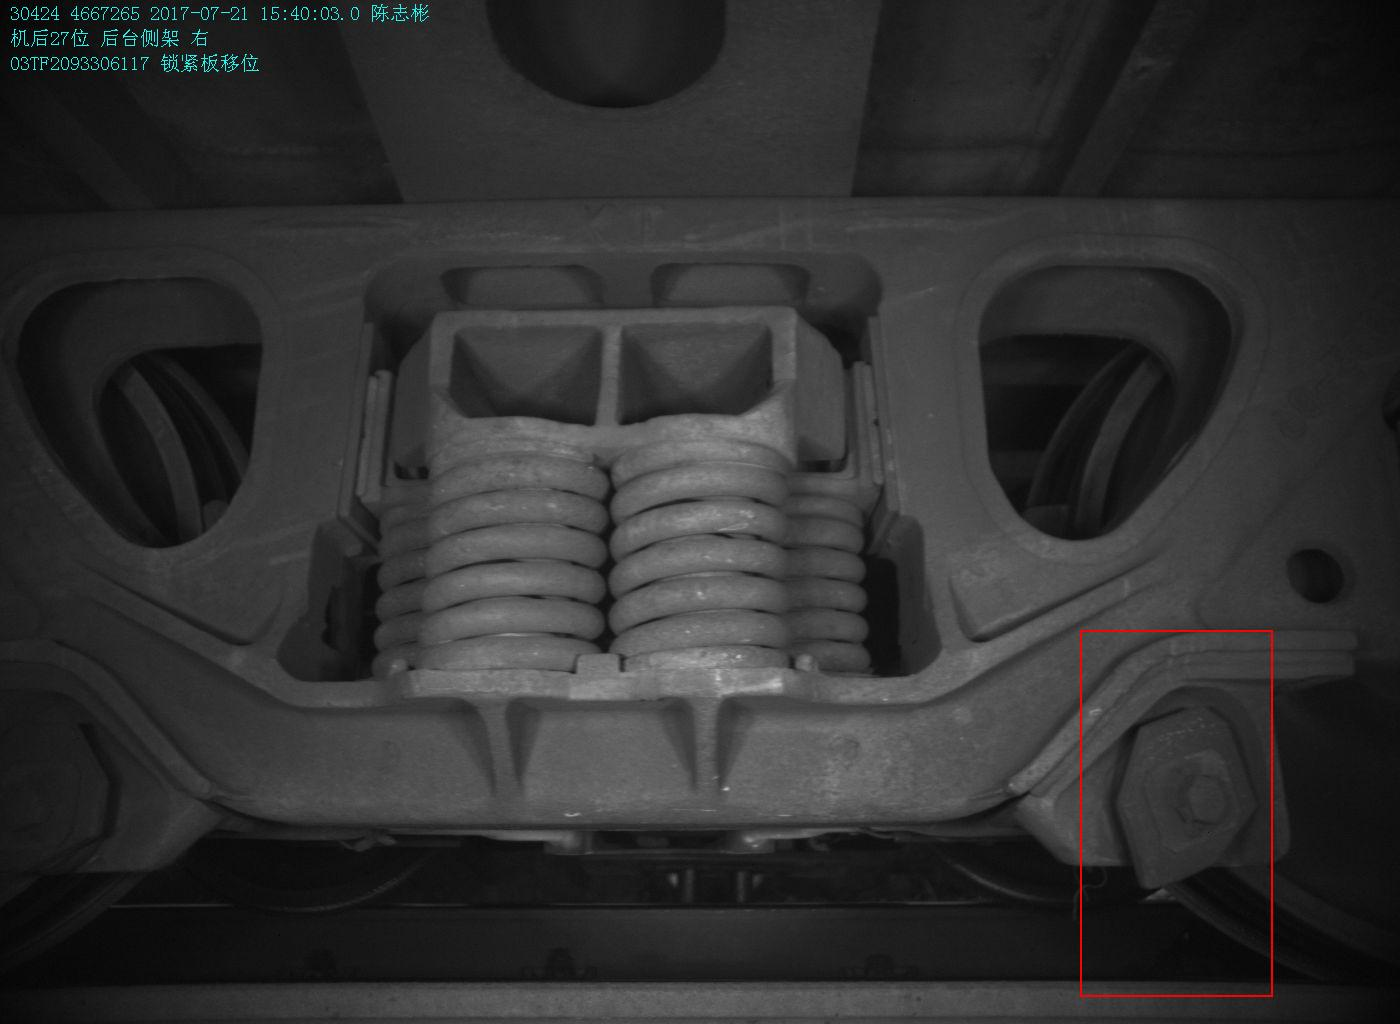Locking plate: (1018, 685, 1288, 889)
normal: (1, 690, 220, 872)
